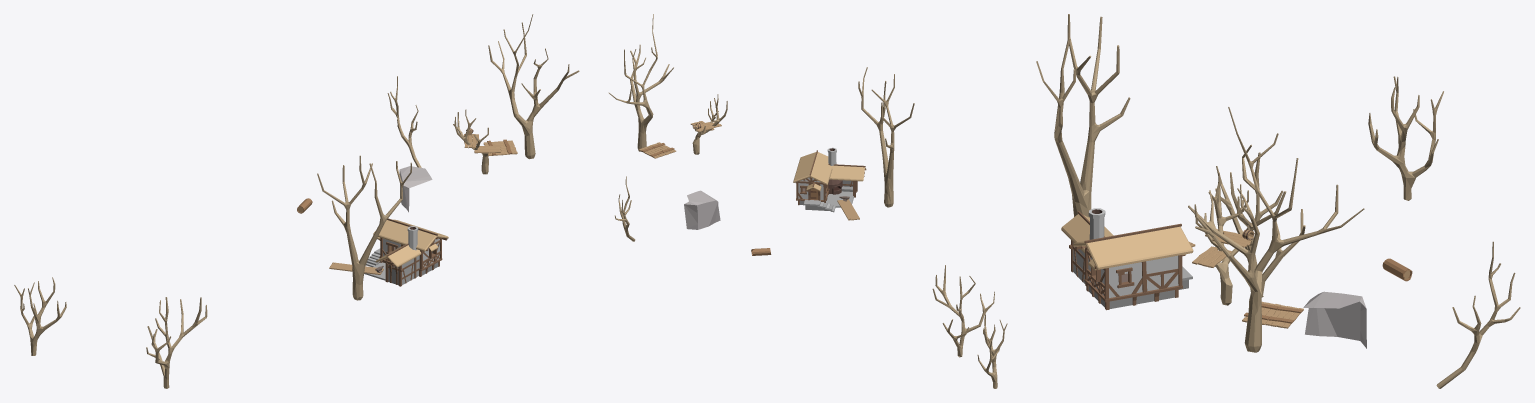
The model's file is Exit.fbx.
3 renders of one model, left to right at view 1: azimuth 30°, elevation 25°; view 2: azimuth 150°, elevation 25°; view 3: azimuth 270°, elevation 25°, orthographic. The views are drawn at different scales.
Visible parts, largest first — view 1: Branches-3, Branches-6.001, ExitBlacksmith-Roof, ExitBlacksmith, TreeB, TreeA, Cube.069, Branches-7, Branches-2, ExitBlacksmith-Stone; view 2: ExitBlacksmith-Roof, Branches-3, Branches-6.001, Cube.069, TreeB, ExitBlacksmith, ExitBlacksmith-Stone, TreeA, Branches-2, ExitBlacksmith-Metal; view 3: Branches-6.001, ExitBlacksmith-Roof, ExitBlacksmith, Branches-3, Cube.069, TreeA, TreeB, Branches-7, Branches-2, ExitBlacksmith-Stone, TreePlatform, ExitBlacksmith-Metal.
Part boxes in pixels (x1=…): Branches-3: x1=317, y1=155, x2=411, y2=300; Branches-6.001: x1=488, y1=14, x2=579, y2=159; ExitBlacksmith-Roof: x1=373, y1=218, x2=448, y2=267; ExitBlacksmith: x1=377, y1=237, x2=447, y2=286; TreeB: x1=146, y1=297, x2=207, y2=388; TreeA: x1=14, y1=277, x2=66, y2=355; Cube.069: x1=399, y1=166, x2=432, y2=212; Branches-7: x1=387, y1=76, x2=421, y2=167; Branches-2: x1=453, y1=109, x2=488, y2=174; ExitBlacksmith-Stone: x1=364, y1=248, x2=438, y2=285; ExitBlacksmith-Roof: x1=793, y1=150, x2=866, y2=197; Branches-3: x1=858, y1=67, x2=914, y2=207; Branches-6.001: x1=608, y1=14, x2=673, y2=151; Cube.069: x1=684, y1=190, x2=720, y2=229; TreeB: x1=932, y1=265, x2=994, y2=357; ExitBlacksmith: x1=795, y1=169, x2=865, y2=205; ExitBlacksmith-Stone: x1=799, y1=185, x2=853, y2=212; TreeA: x1=977, y1=313, x2=1007, y2=388; Branches-2: x1=692, y1=94, x2=727, y2=154; ExitBlacksmith-Metal: x1=827, y1=147, x2=842, y2=194; Branches-6.001: x1=1188, y1=107, x2=1364, y2=352; ExitBlacksmith-Roof: x1=1061, y1=211, x2=1193, y2=270; ExitBlacksmith: x1=1069, y1=240, x2=1185, y2=310; Branches-3: x1=1036, y1=14, x2=1130, y2=217; Cube.069: x1=1303, y1=291, x2=1366, y2=348; TreeA: x1=1368, y1=76, x2=1443, y2=200; TreeB: x1=1215, y1=144, x2=1305, y2=297; Branches-7: x1=1436, y1=241, x2=1520, y2=388; Branches-2: x1=1195, y1=173, x2=1253, y2=305; ExitBlacksmith-Stone: x1=1073, y1=264, x2=1192, y2=308; TreePlatform: x1=1192, y1=229, x2=1253, y2=267; ExitBlacksmith-Metal: x1=1088, y1=208, x2=1105, y2=239.
Size of the model in its own units: 84.8 by 48.78 by 45.67.
2 materials, 1 textured.
